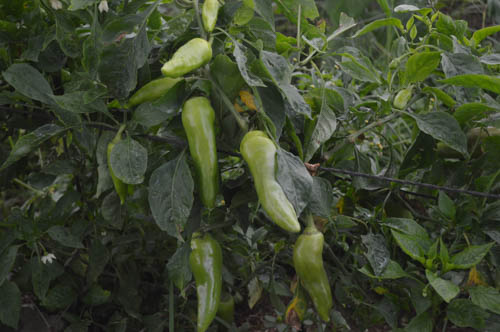ChiliPepper: (240, 133, 305, 239), (182, 95, 224, 204), (186, 235, 227, 328), (290, 235, 333, 312), (161, 38, 209, 72), (104, 145, 128, 203)
